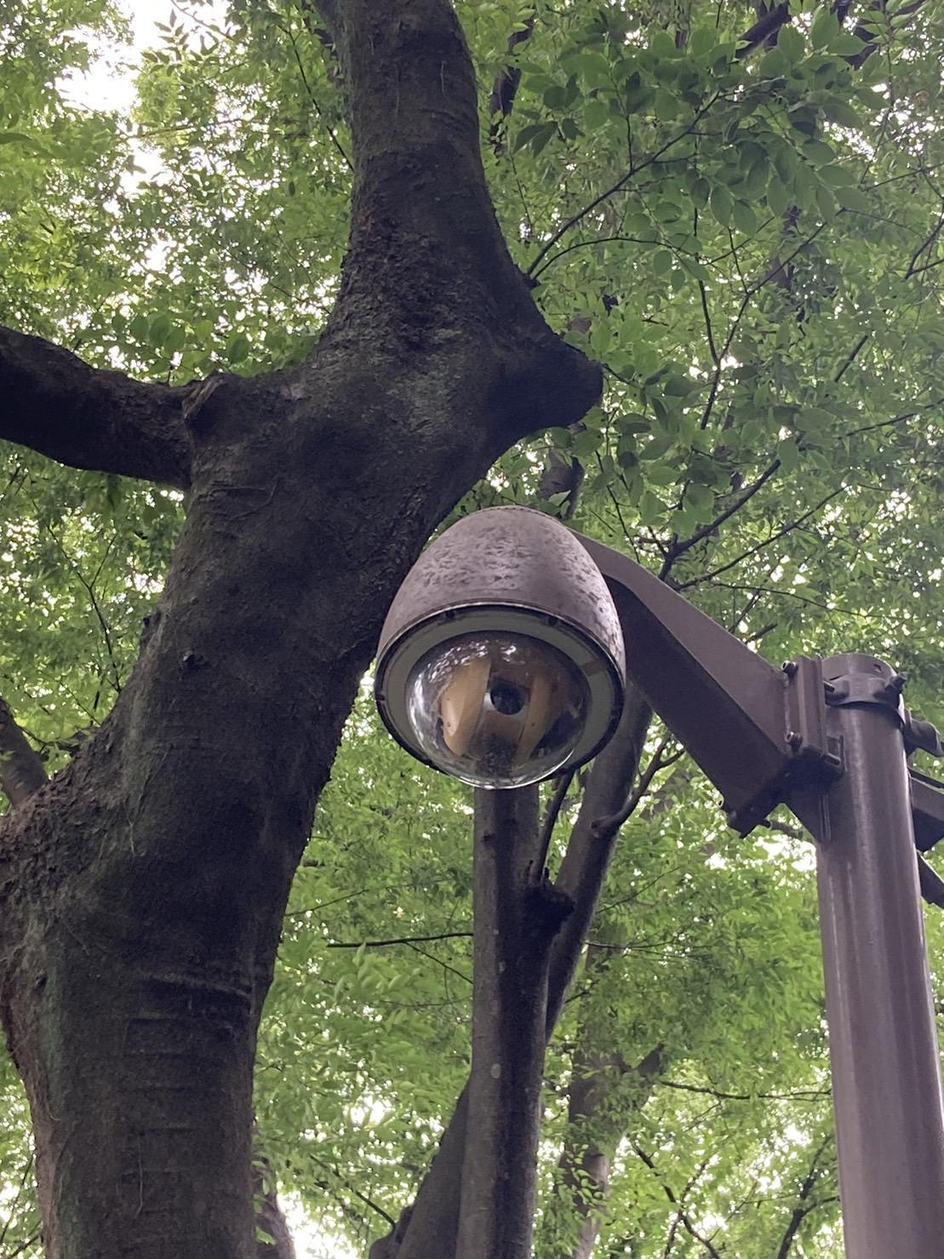maru: (362, 489, 632, 804)
